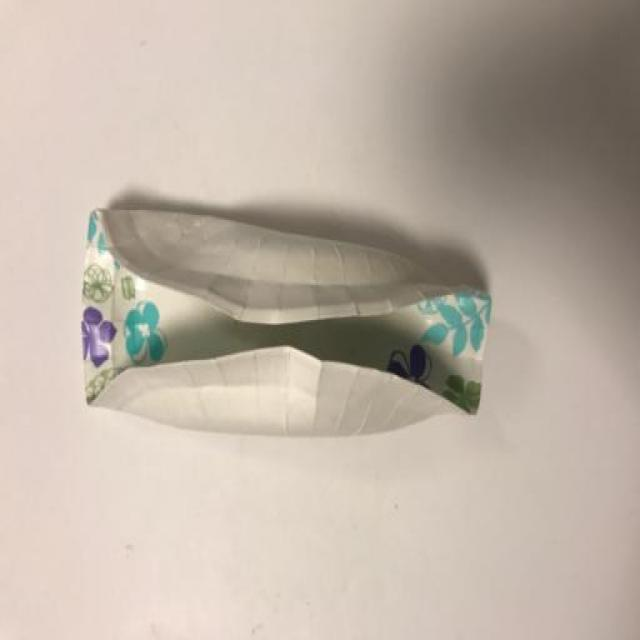paper: (69, 173, 513, 495)
